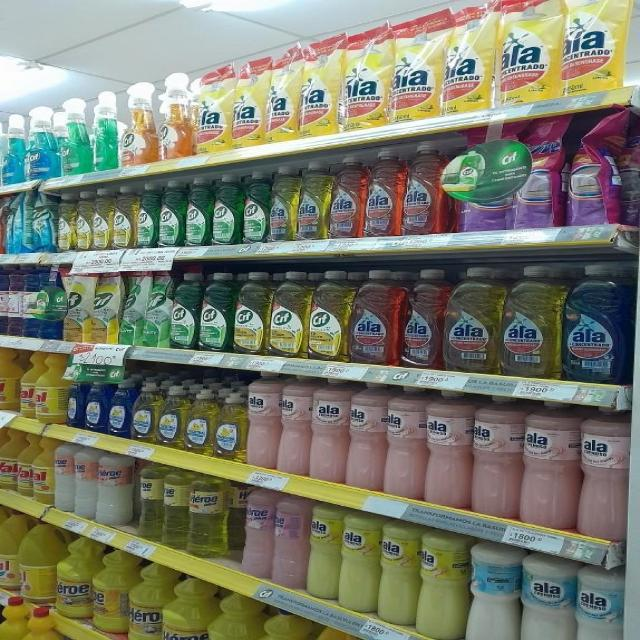ala_conc_amarillo: (500, 264, 560, 378), (444, 266, 498, 374), (298, 160, 329, 239), (268, 164, 298, 240)
ala_conc_azul: (562, 262, 630, 384)
ala_conc_rojo: (349, 269, 398, 365), (400, 268, 443, 371), (403, 143, 446, 235), (364, 148, 402, 237), (330, 154, 365, 238)
ala_crem_amarillo: (418, 529, 466, 640), (379, 520, 417, 626), (340, 511, 378, 615), (307, 503, 340, 602)
ala_crem_blanco: (466, 541, 519, 640), (520, 553, 574, 640), (575, 564, 625, 640)
ala_crem_rosado: (520, 403, 577, 529), (577, 412, 629, 542), (471, 396, 518, 518), (425, 391, 469, 508), (384, 386, 424, 499), (347, 382, 383, 491), (309, 379, 346, 484), (278, 374, 308, 475), (247, 374, 278, 468)
ala_sachet_amarillo: (495, 0, 559, 104), (562, 0, 628, 95), (442, 5, 492, 114), (340, 22, 390, 130), (392, 12, 441, 120), (300, 35, 338, 136), (193, 61, 230, 152), (232, 55, 265, 148), (267, 44, 298, 142)
cif_conc_bot_amarilla: (308, 270, 348, 361), (268, 270, 306, 357), (232, 271, 266, 355), (112, 185, 134, 249), (93, 188, 112, 250), (74, 190, 92, 250), (56, 192, 73, 252)
cif_conc_botella_verde: (198, 272, 231, 352), (170, 270, 198, 349), (212, 173, 240, 245), (242, 169, 268, 243), (185, 176, 210, 246), (158, 179, 183, 247), (136, 182, 156, 248)
cif_conc_sachet_amarillo: (91, 270, 120, 344), (64, 270, 90, 342), (121, 270, 144, 346)
heroe: (188, 475, 231, 558), (97, 452, 134, 526), (242, 488, 272, 578), (163, 467, 188, 549), (73, 445, 96, 519)
magistral_con_amarillo: (214, 388, 244, 461), (186, 386, 213, 454), (158, 385, 185, 448), (132, 381, 158, 443)
magistral_con_azul: (109, 380, 131, 437), (85, 380, 107, 432)
